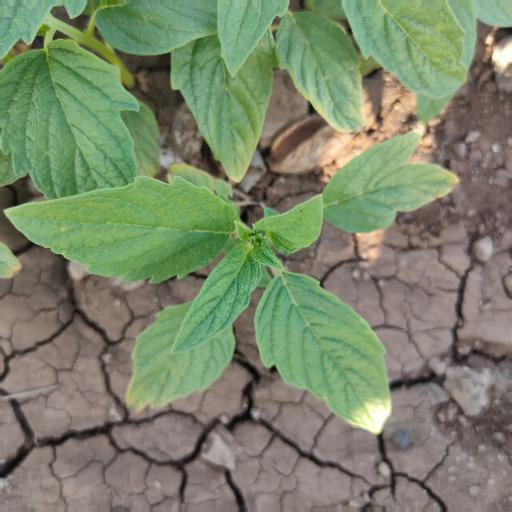crop: (1, 1, 495, 417)
